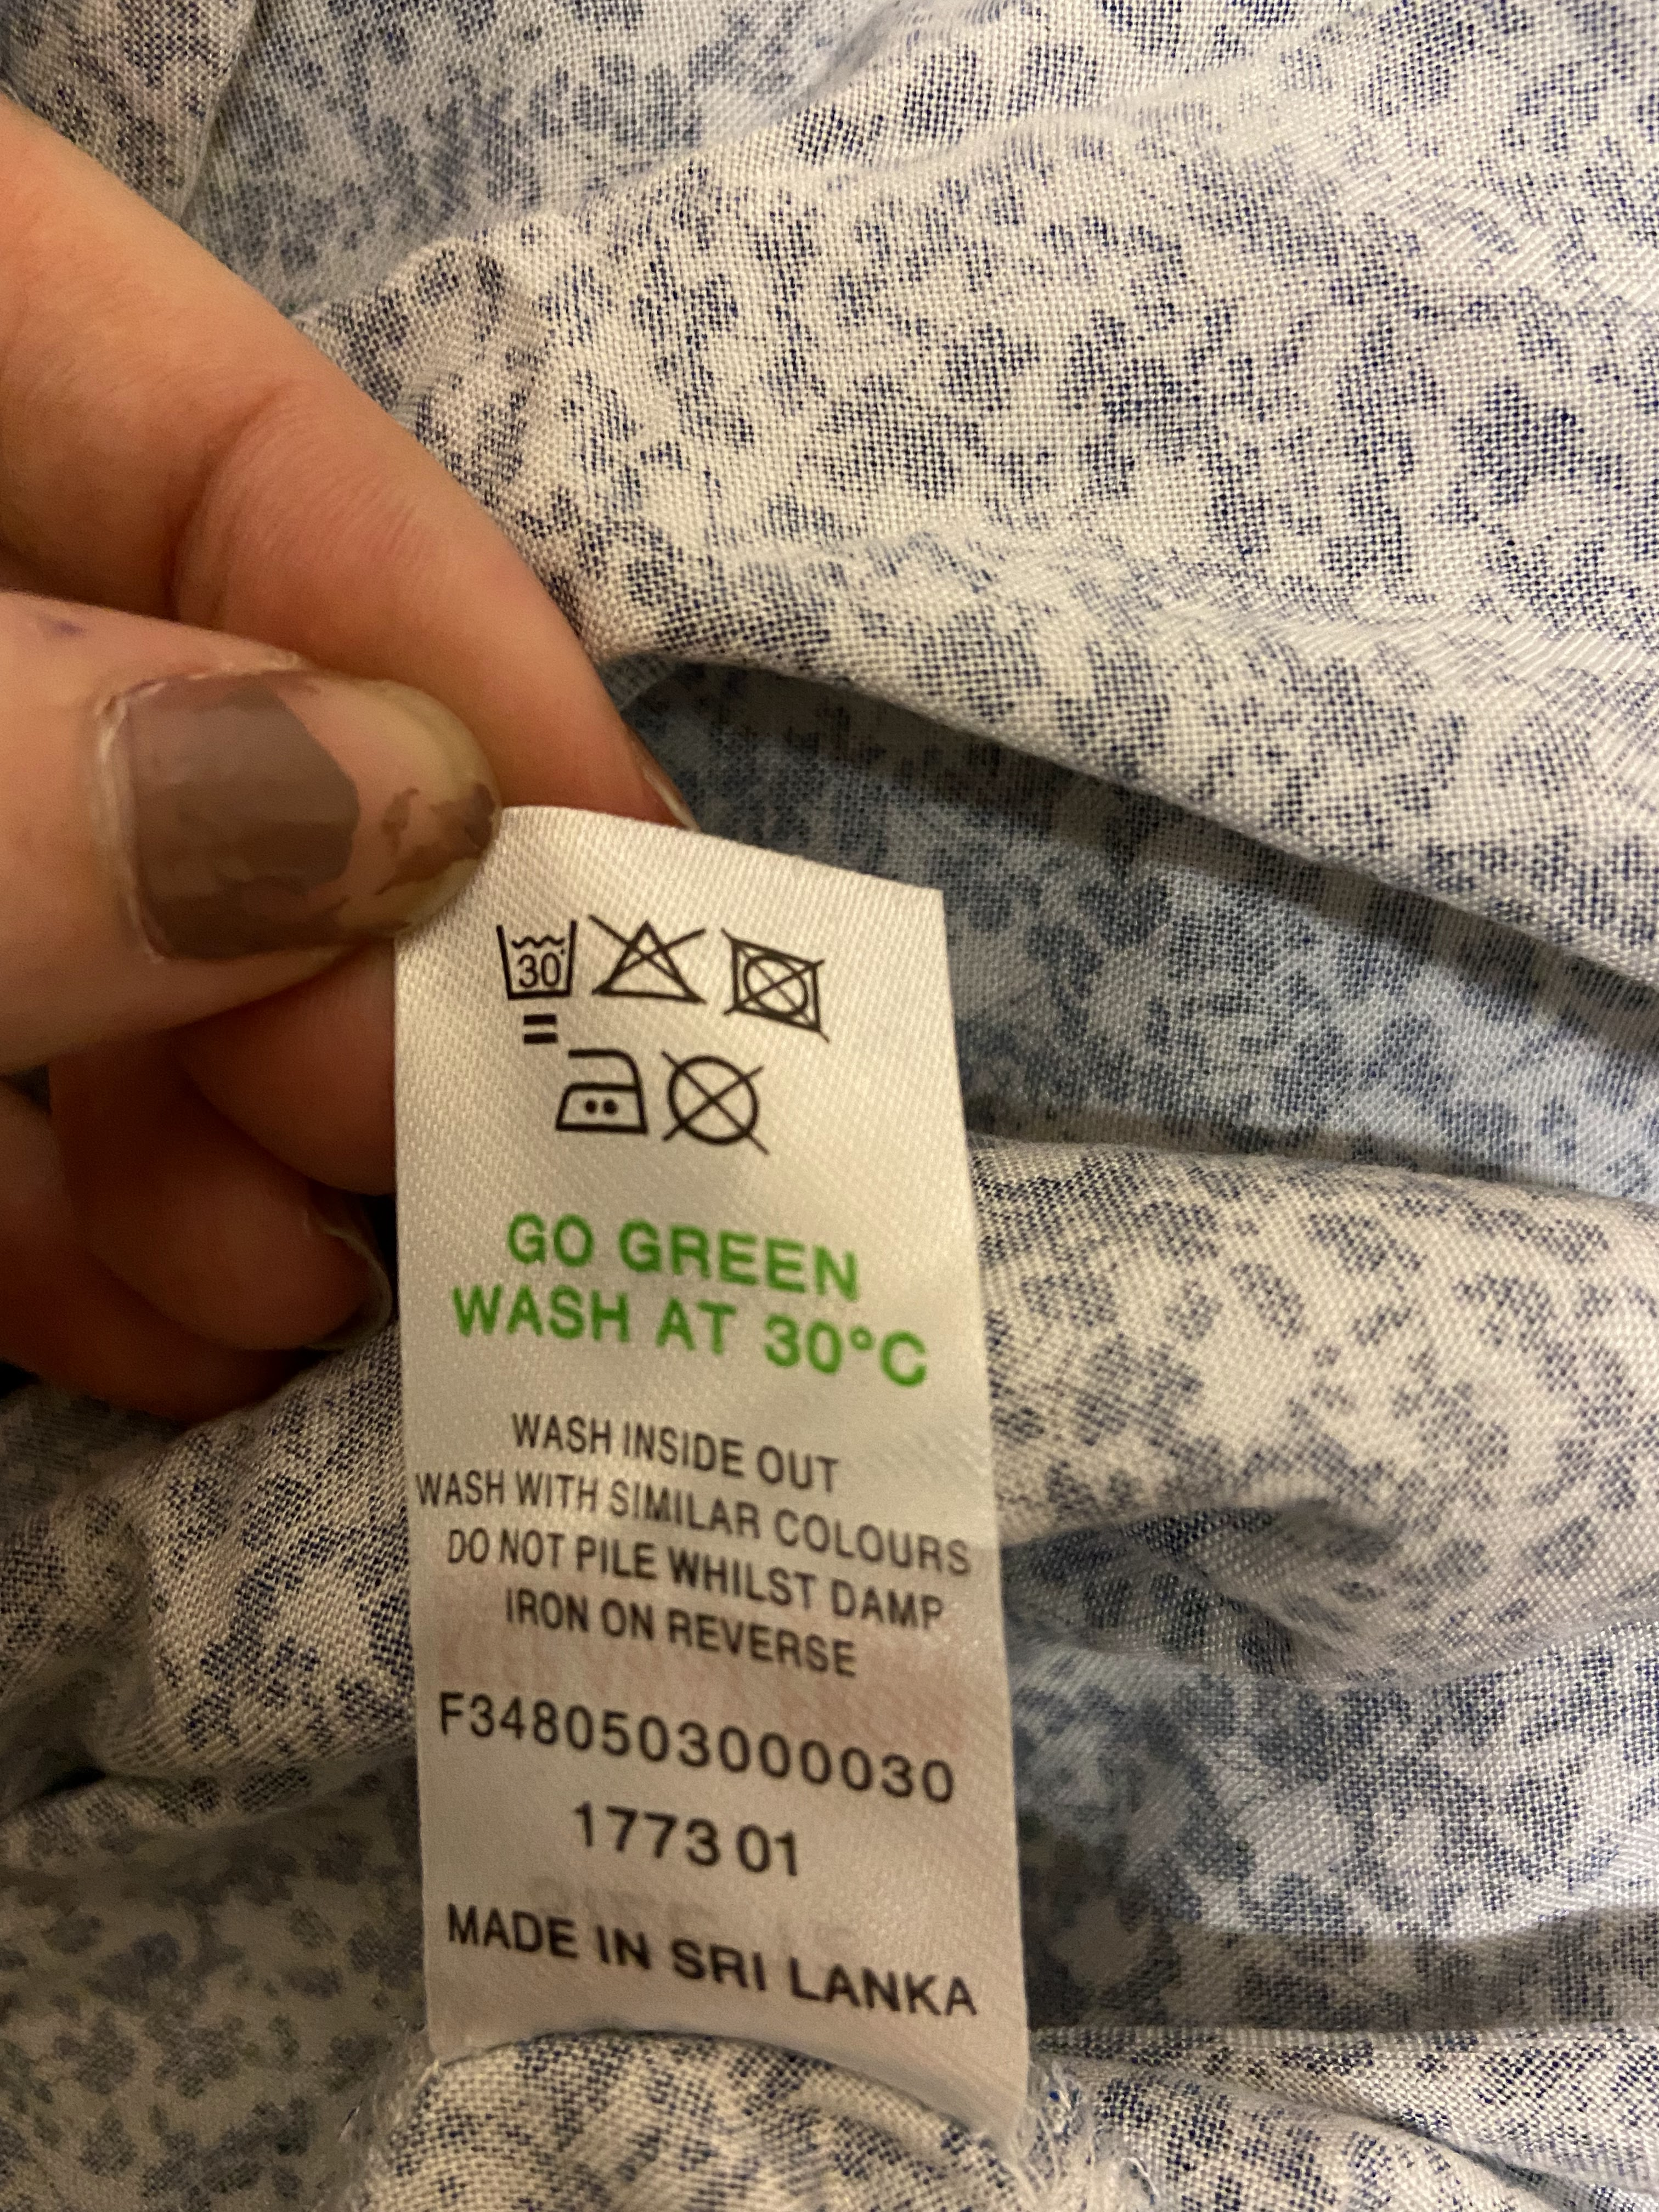do not bleach: (584, 890, 711, 1021)
do not dry clean: (655, 1045, 816, 1151)
do not tumble dry: (709, 914, 850, 1052)
iron medium temp: (526, 1042, 664, 1158)
wash at or below 30: (479, 907, 589, 1021)
